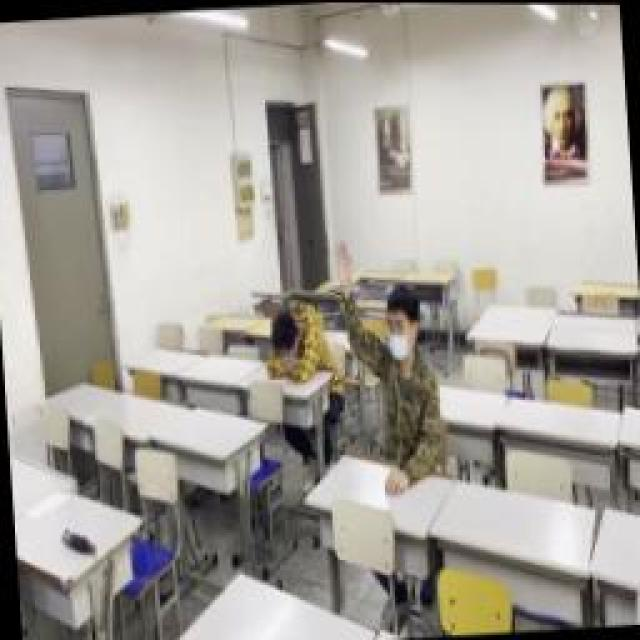sleep: (262, 305, 330, 380)
study: (332, 238, 442, 498)
